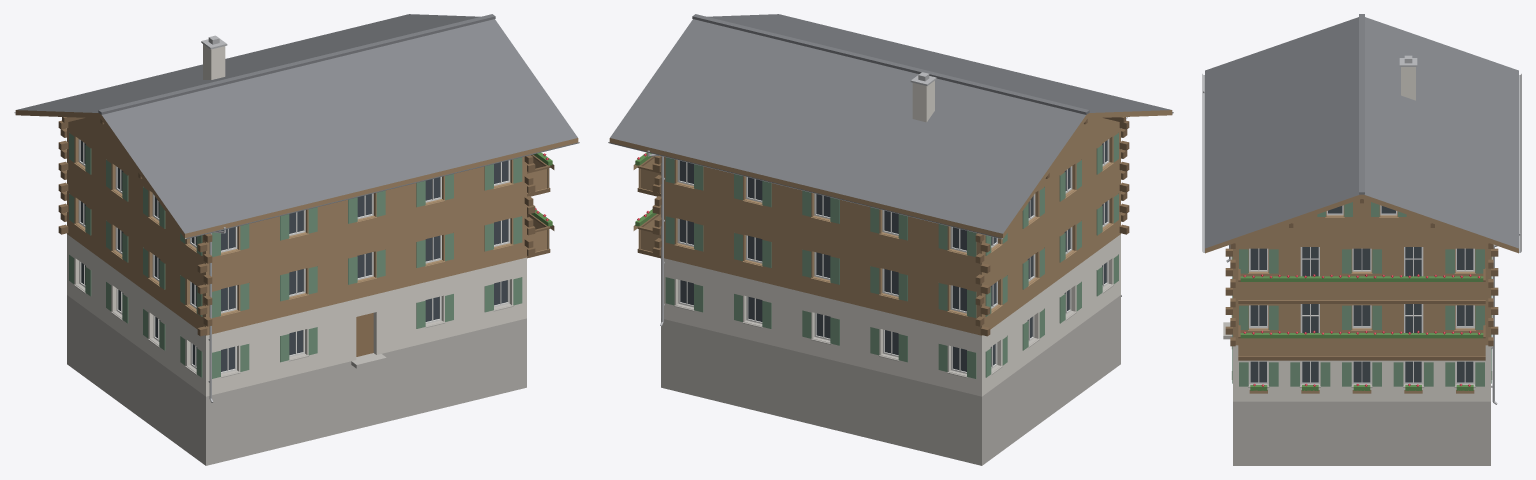
File: chalet_3_l.glb
3 renders of one model, left to right at view 1: azimuth 30°, elevation 25°; view 2: azimuth 150°, elevation 25°; view 3: azimuth 270°, elevation 25°, orthographic. The views are drawn at different scales.
Parts seen in each view (by area): view 1: chalet_3_l; view 2: chalet_3_l; view 3: chalet_3_l.
Boxes of the visible parts, x1,y1,x2,y2 form: chalet_3_l: [14, 14, 579, 465]; chalet_3_l: [608, 14, 1173, 465]; chalet_3_l: [1202, 14, 1521, 465].
Bounding box in the file's own units: 19.64 × 15.9 × 14.85.
